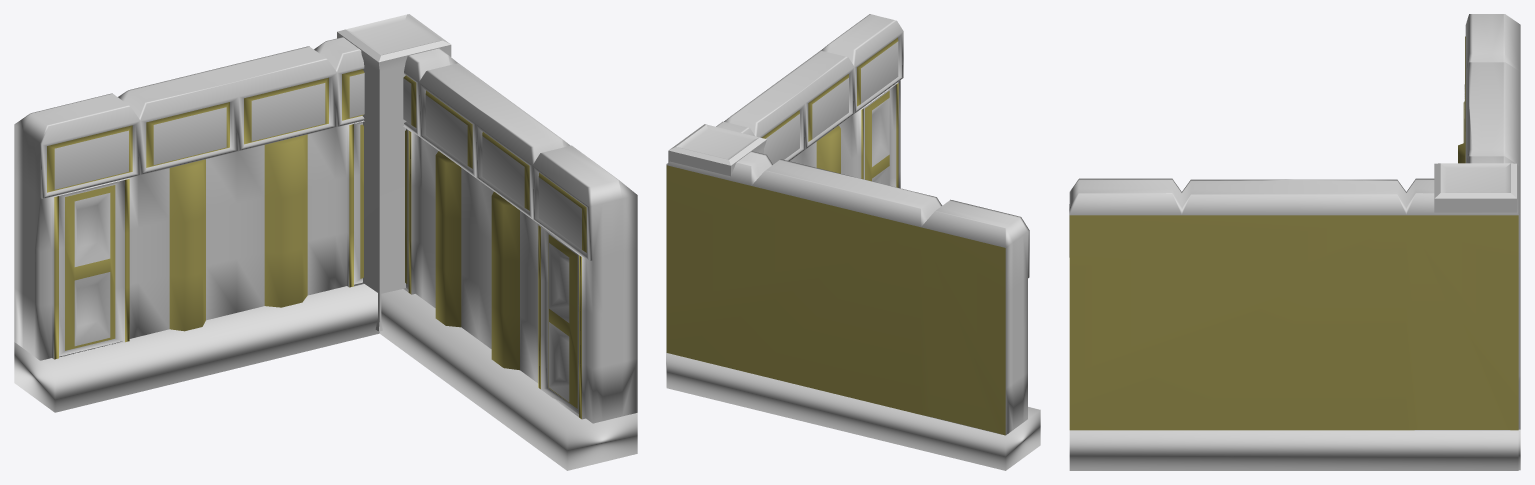
The model's file is cornerWall.fbx.
3 renders of one model, left to right at view 1: azimuth 30°, elevation 25°; view 2: azimuth 150°, elevation 25°; view 3: azimuth 270°, elevation 25°, orthographic. The views are drawn at different scales.
Parts seen in each view (by area): view 1: pCube6; view 2: pCube6; view 3: pCube6.
Boxes of the visible parts, x1,y1,x2,y2 form: pCube6: [14, 14, 637, 470]; pCube6: [666, 14, 1040, 470]; pCube6: [1069, 14, 1520, 470].
Bounding box in the file's own units: 10.04 × 6.74 × 10.06.
